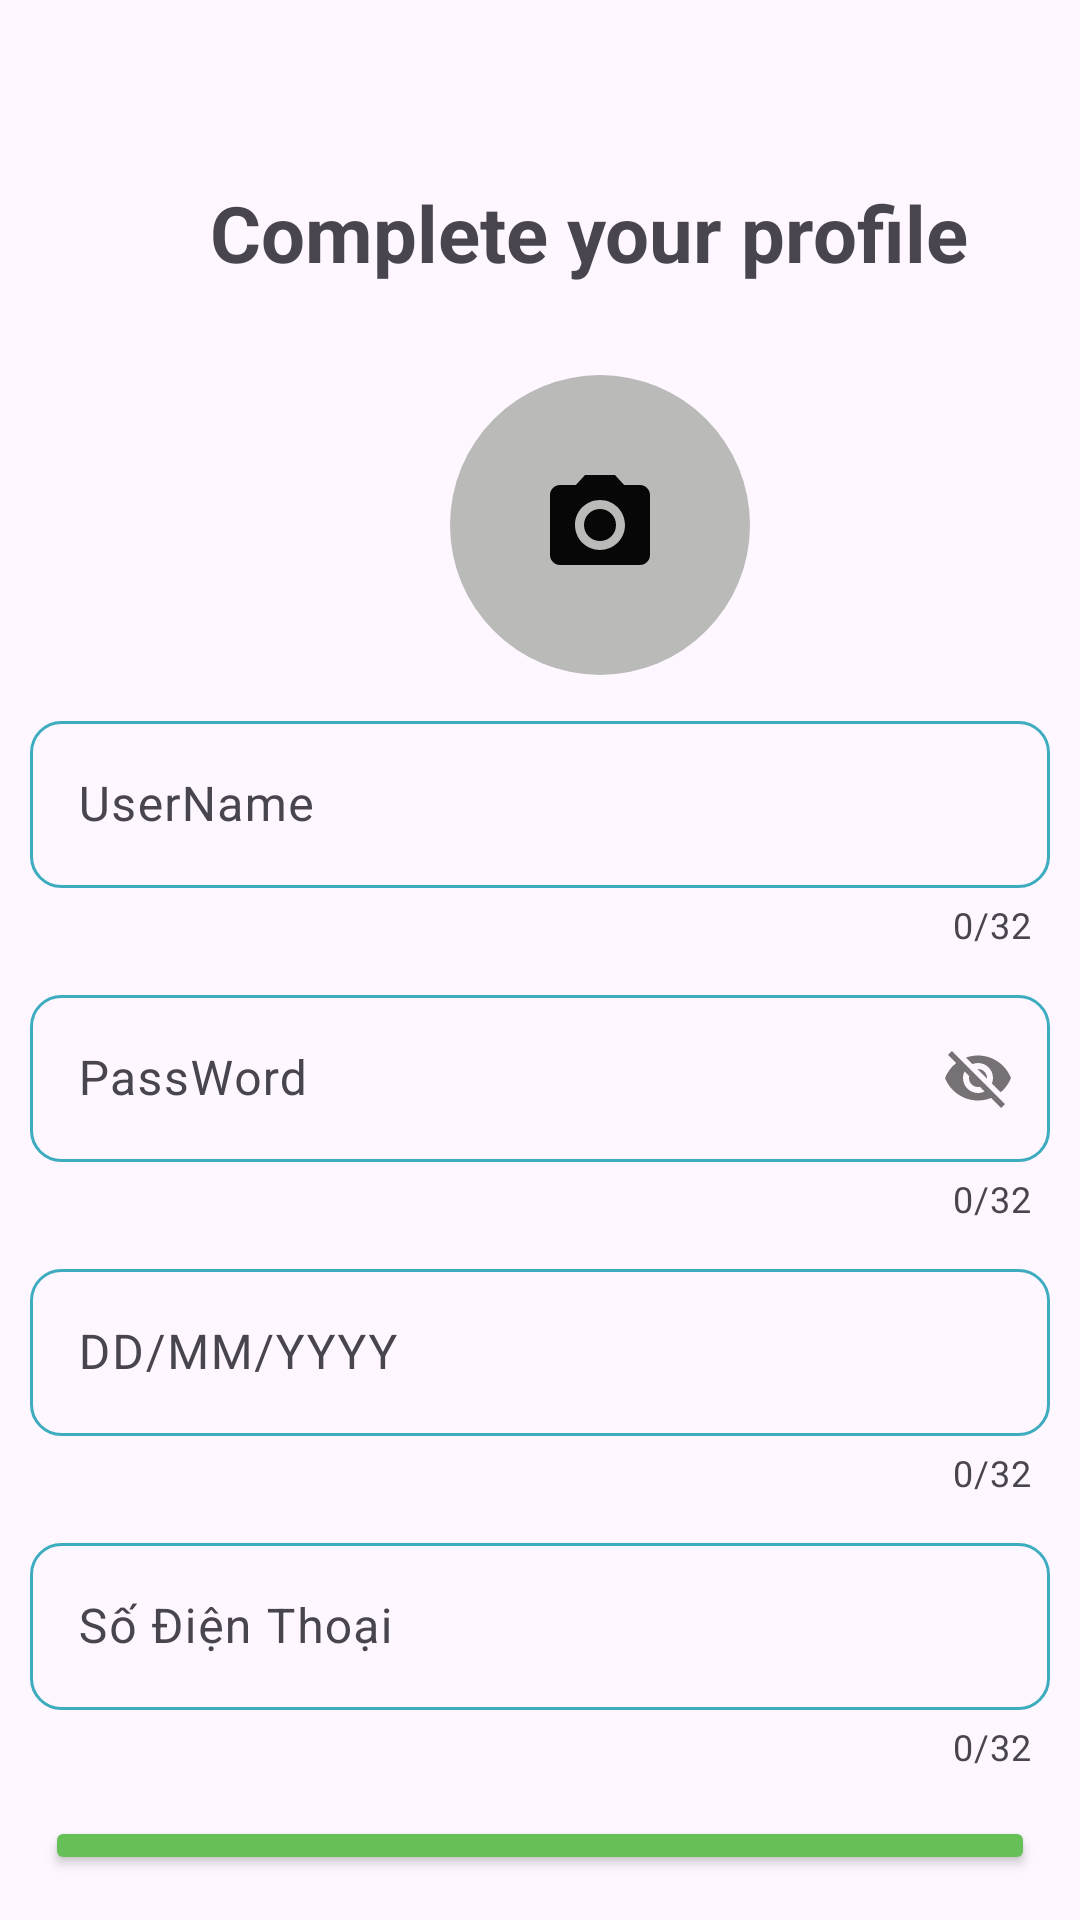

Named icons in this screenshot (1080 × 1920) and their bounding boxes, (x1, y1, x2, y2):
cam: (450, 375, 750, 675)
